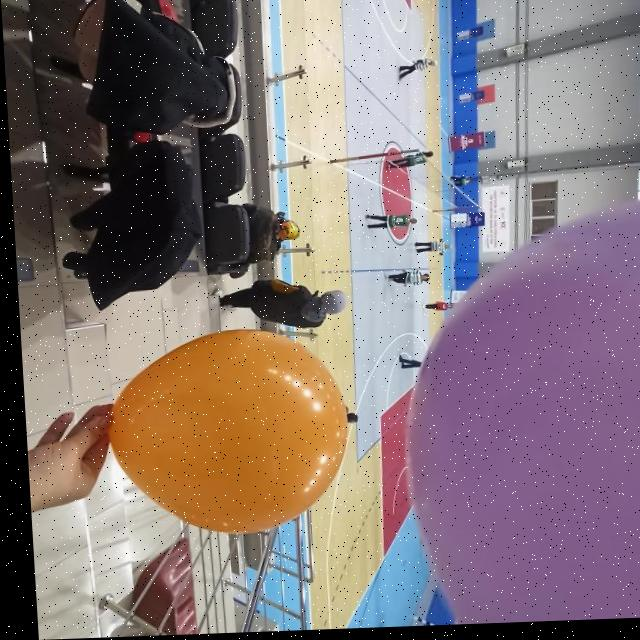balloon: (390, 198, 640, 629), (100, 328, 345, 541)
